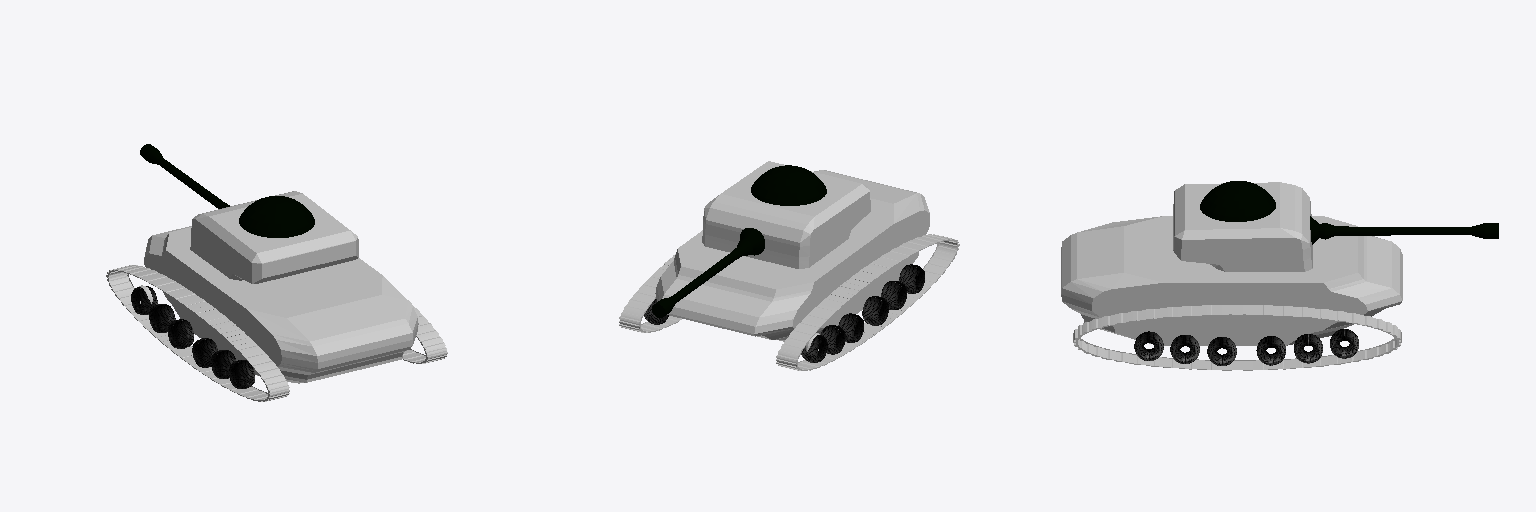
3 views of the same model, side by side, from view 1: azimuth 30°, elevation 25°; view 2: azimuth 150°, elevation 25°; view 3: azimuth 270°, elevation 25° (orthographic).
Visible parts, largest first — view 1: Cubo.006, Gear.003, Cilindro.002, Rosca.033; view 2: Cubo.006, Gear.003, Cilindro.002, Rosca.033; view 3: Cubo.006, Gear.003, Cilindro.002, Rosca.033.
Part boxes in pixels (x1,y1,x2,y2): Cubo.006: (144, 191, 418, 383); Gear.003: (106, 265, 447, 401); Cilindro.002: (140, 144, 314, 237); Rosca.033: (131, 286, 254, 388); Cubo.006: (655, 161, 929, 341); Gear.003: (619, 234, 959, 370); Cilindro.002: (652, 165, 826, 317); Rosca.033: (644, 264, 924, 362); Cubo.006: (1061, 182, 1402, 345); Gear.003: (1073, 305, 1401, 370); Cilindro.002: (1200, 181, 1498, 244); Rosca.033: (1134, 329, 1358, 365).
Size of the model in its own units: 20.57 by 15.86 by 43.94.
Materials: 4 (1 with a texture image).